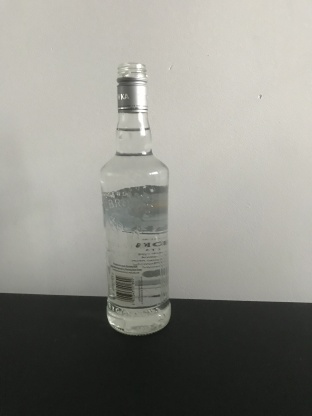nakretka: (114, 60, 150, 114)
